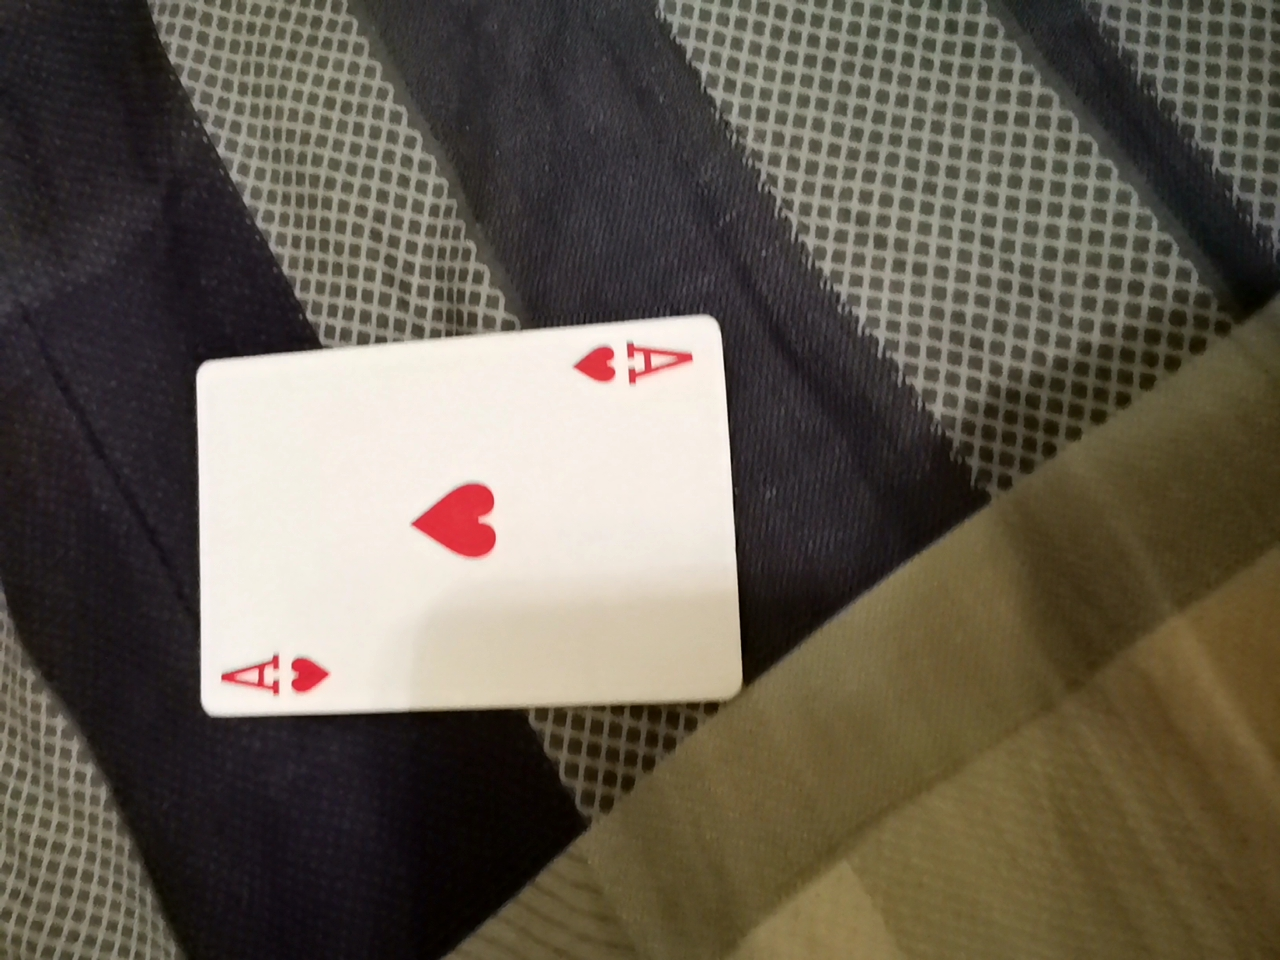hx a: (190, 274, 738, 663)
